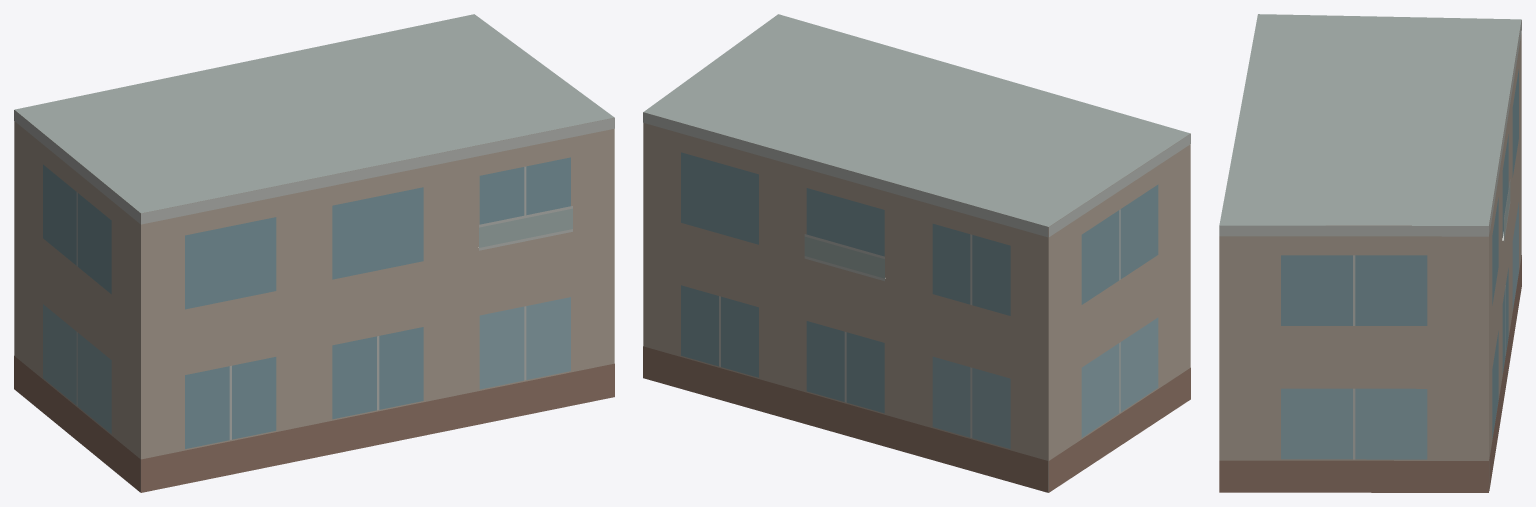
The model's file is survey-upis-32611077.glb.
The picture shows the model from 3 angles, left to right: view 1: azimuth 30°, elevation 25°; view 2: azimuth 150°, elevation 25°; view 3: azimuth 270°, elevation 25°; orthographic projection. The views are drawn at different scales.
Parts seen in each view (by area): view 1: survey-upis-32611077.tmp; view 2: survey-upis-32611077.tmp; view 3: survey-upis-32611077.tmp.
Boxes of the visible parts, x1,y1,x2,y2 form: survey-upis-32611077.tmp: [14, 14, 614, 492]; survey-upis-32611077.tmp: [643, 14, 1190, 492]; survey-upis-32611077.tmp: [1219, 14, 1521, 492].
Size of the model in its own units: 10.39 by 6.1 by 6.27.
